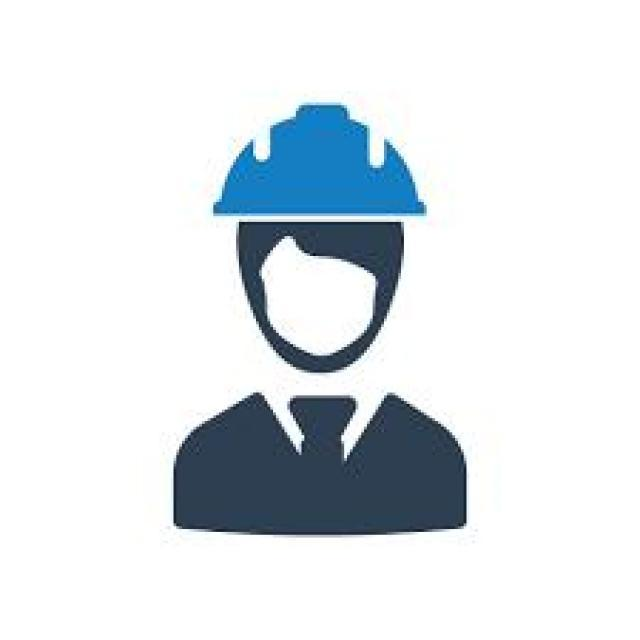safety_helmet: (207, 96, 438, 230)
